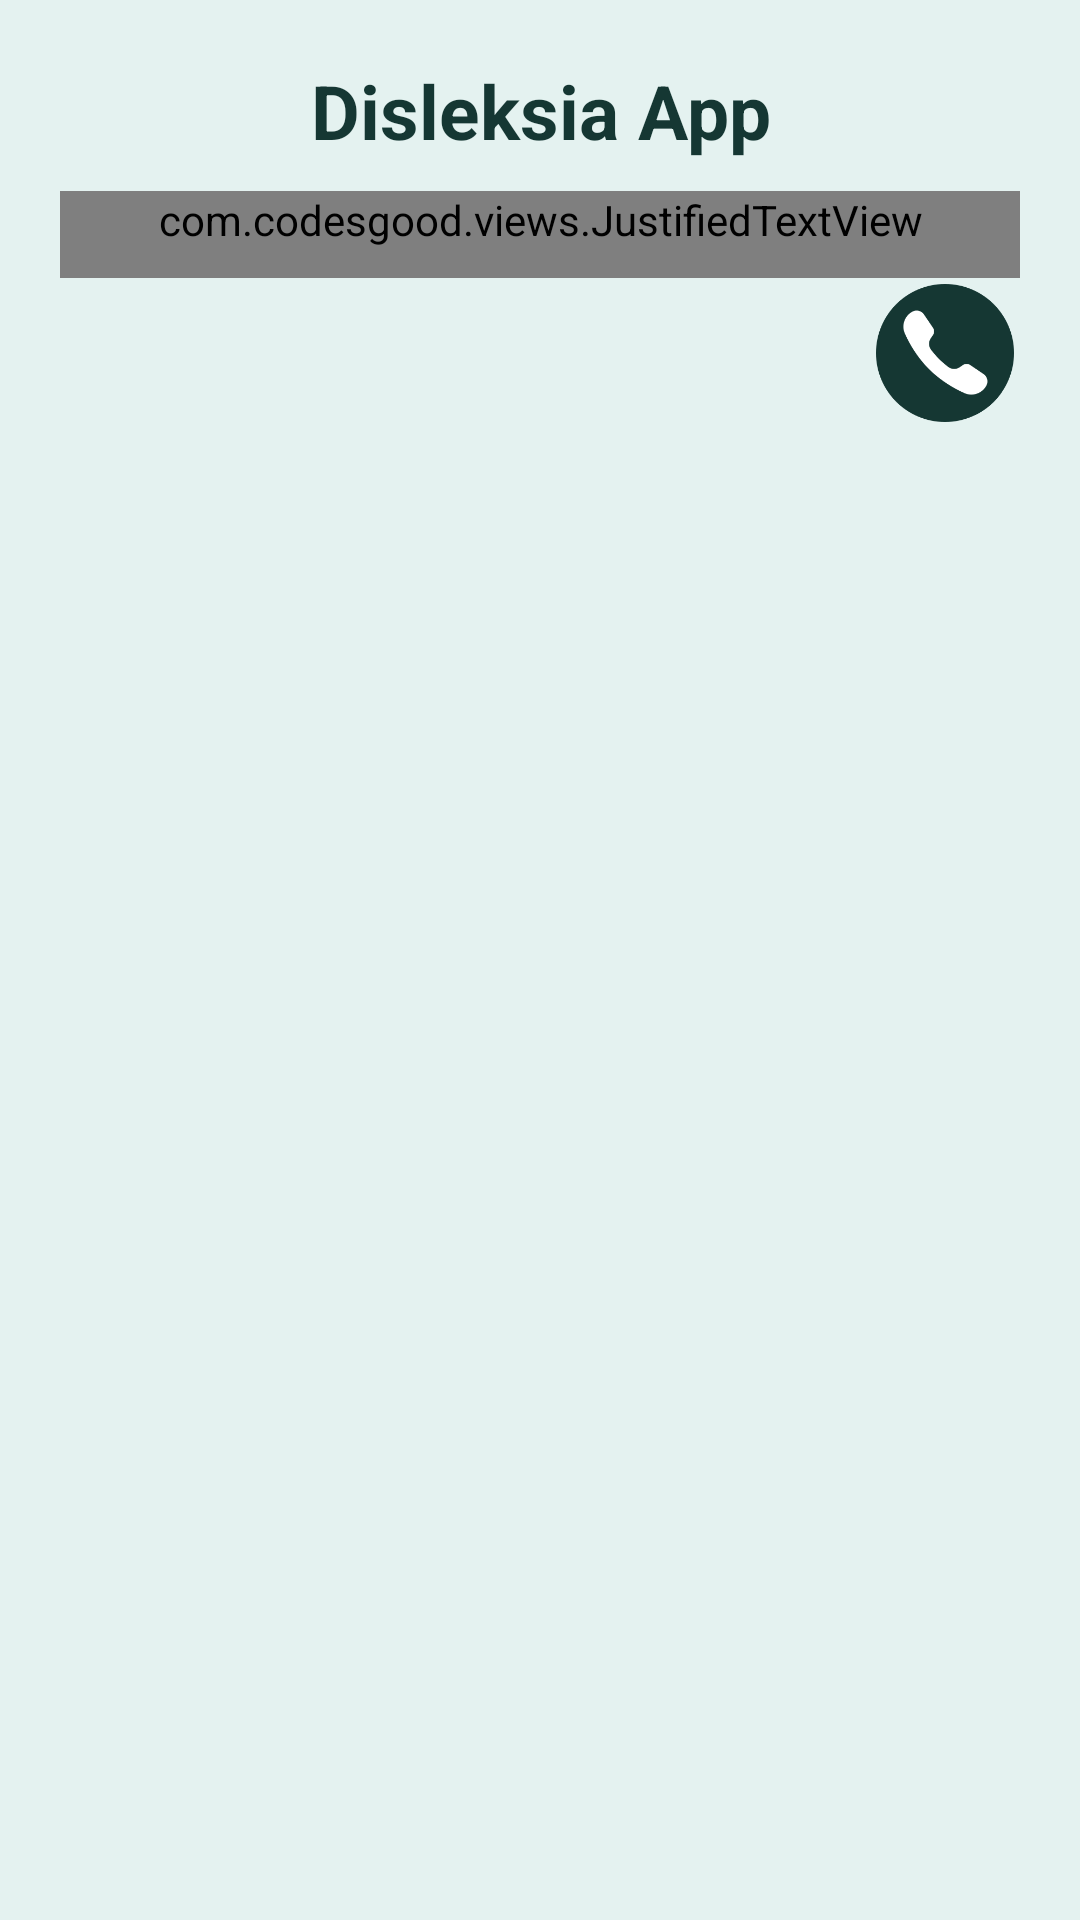

Icons on this 1080px x 1920px Android screen, each with its box as (x1, y1, x2, y2):
phone: (876, 284, 1014, 422)
